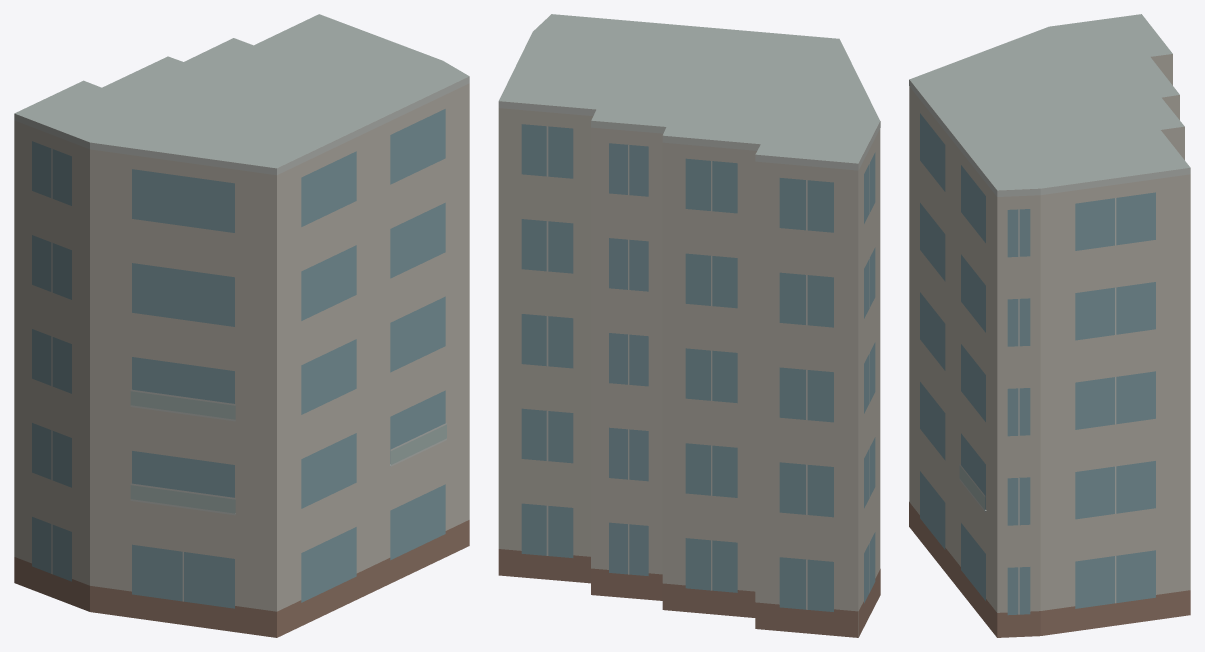
Rendered from survey-upis-32525551.glb.
3 views of the same model, side by side, from view 1: azimuth 30°, elevation 25°; view 2: azimuth 150°, elevation 25°; view 3: azimuth 270°, elevation 25° (orthographic). The views are drawn at different scales.
Visible parts, largest first — view 1: survey-upis-32525551.tmp; view 2: survey-upis-32525551.tmp; view 3: survey-upis-32525551.tmp.
Boxes of the visible parts, x1,y1,x2,y2 form: survey-upis-32525551.tmp: [14, 14, 469, 637]; survey-upis-32525551.tmp: [498, 14, 880, 637]; survey-upis-32525551.tmp: [909, 14, 1190, 637].
Bounding box in the file's own units: 14.1 × 16.65 × 9.5.
